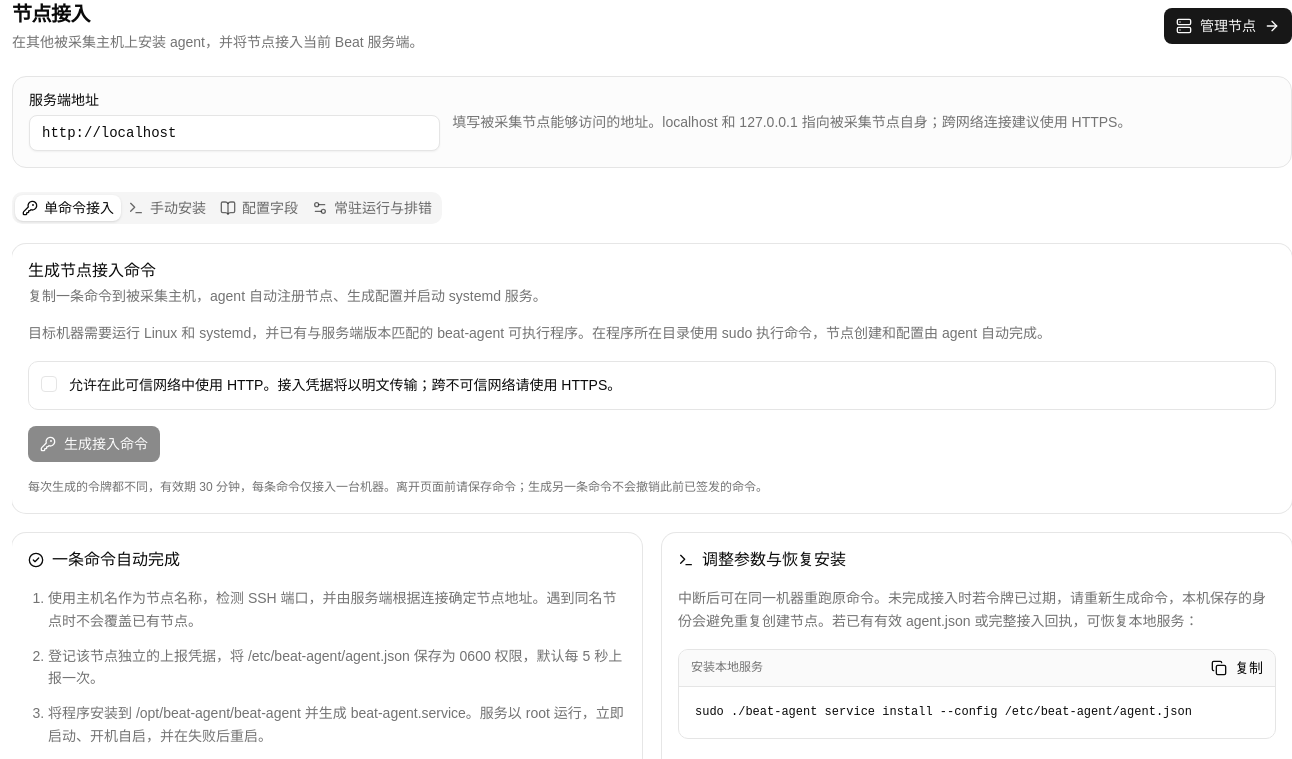
Test: agent setup guide › renders the optional config sections in Chinese
Click the tab "手动安装": coordinates (167, 208) [121,195,213,221]
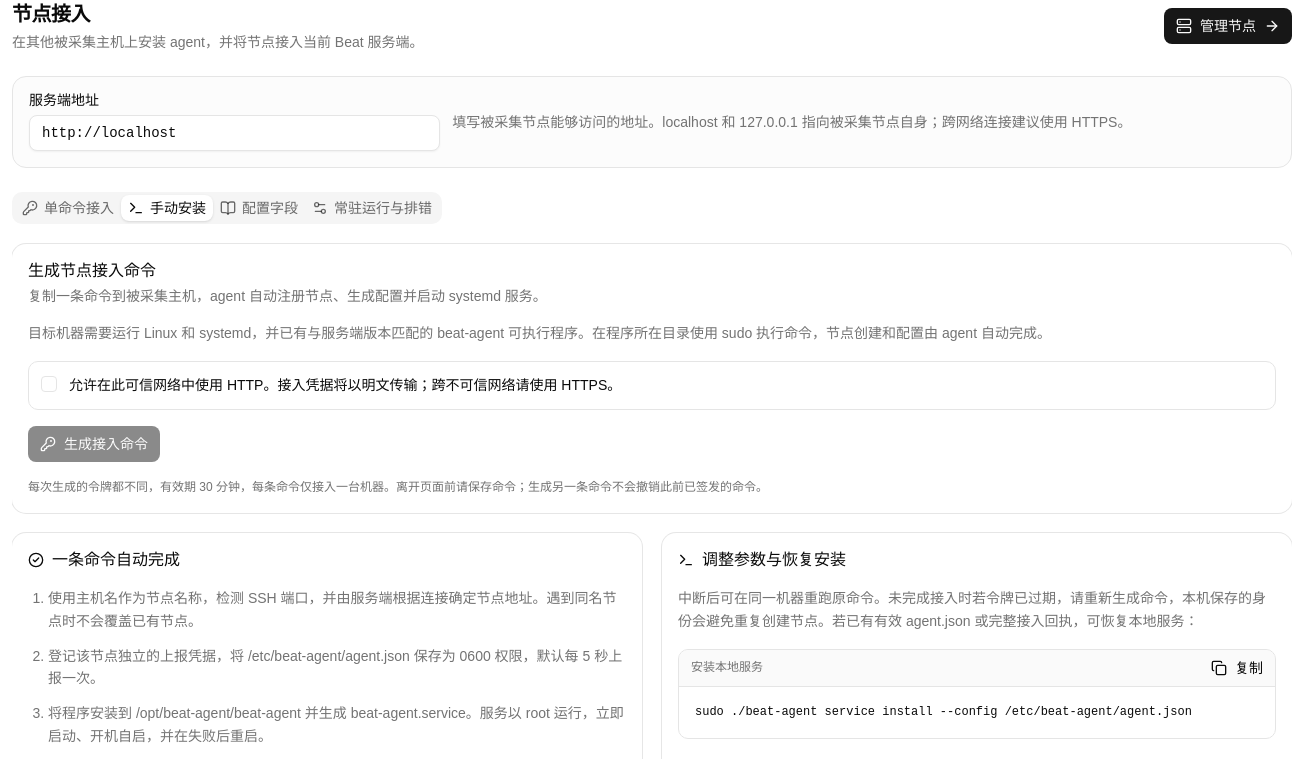
Click the tab "配置字段": coordinates (259, 208) [213,195,305,221]
(page scrolled)
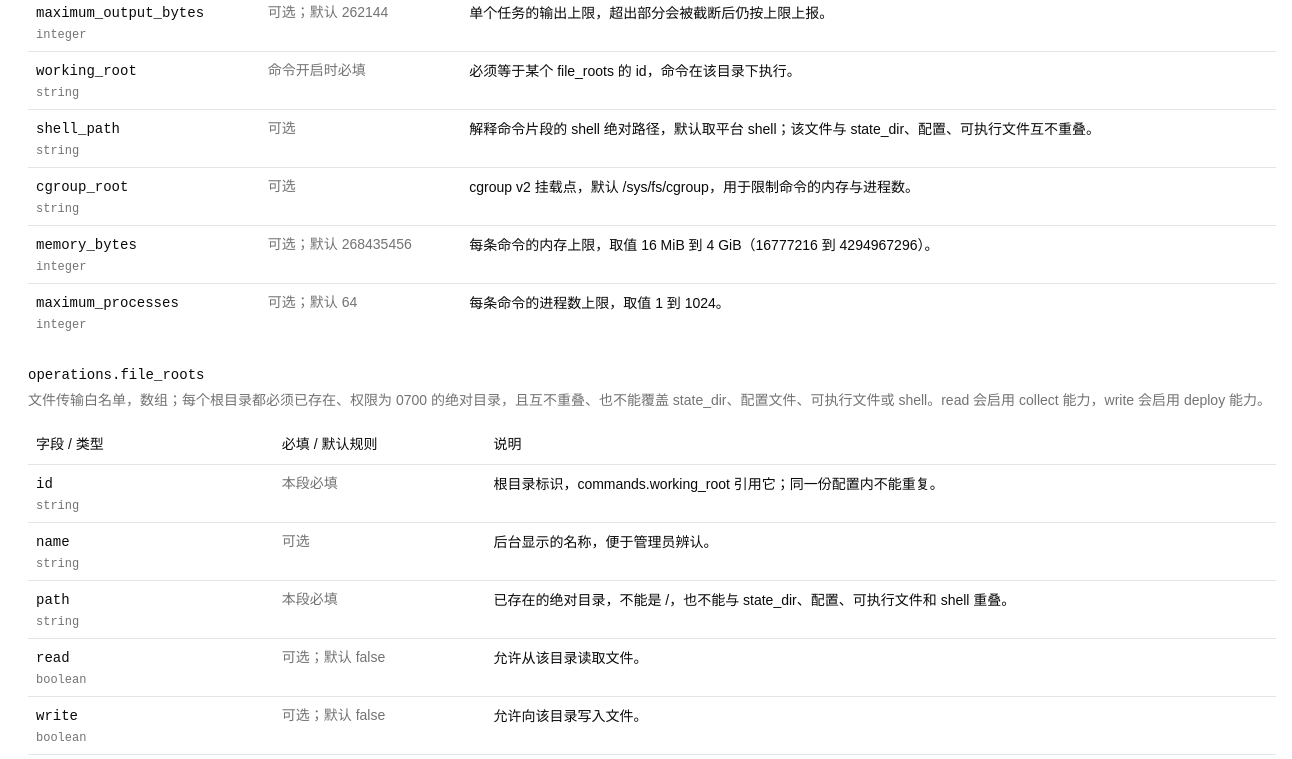
Now the text "文件传输白名单" is shown, box [28,392,1271,408]
